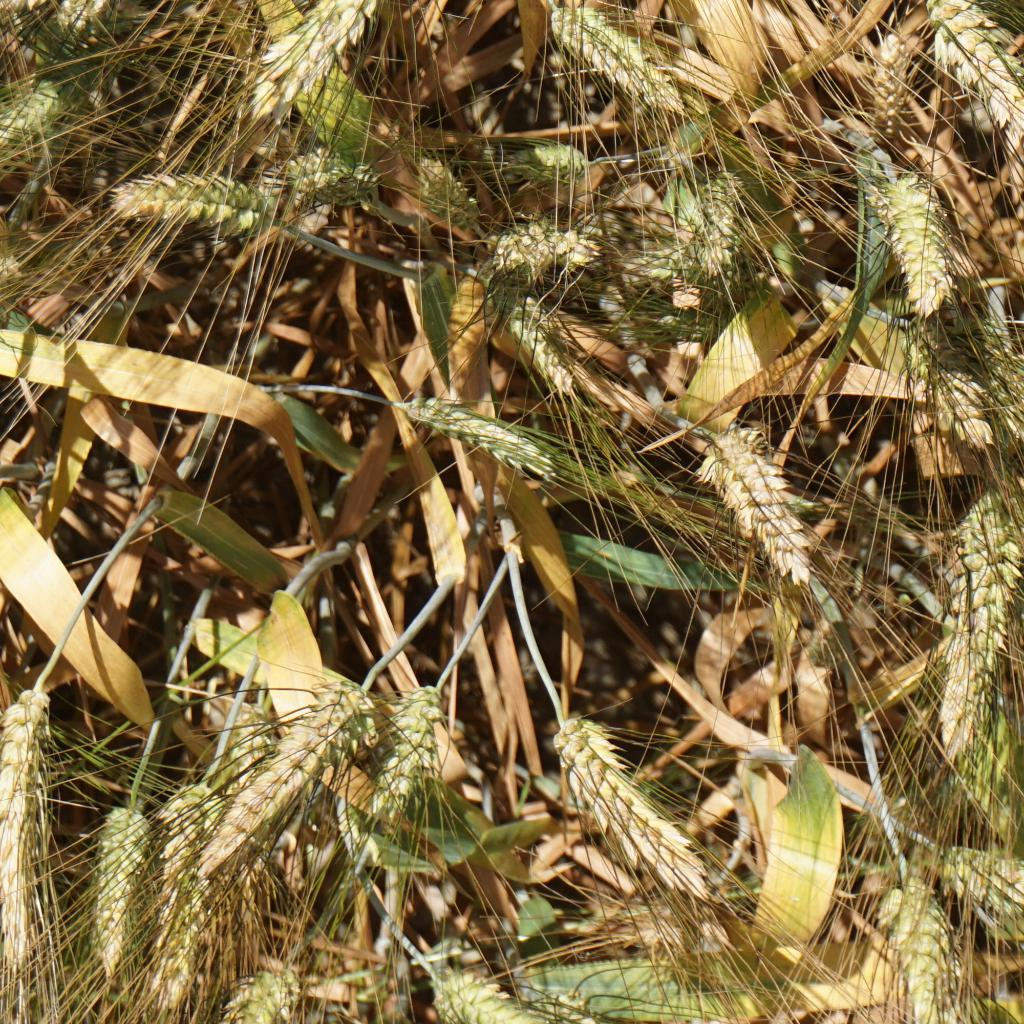0-0: (552, 717, 702, 878), (211, 684, 353, 849), (694, 420, 824, 594), (864, 859, 972, 1024), (542, 3, 687, 124), (929, 607, 1024, 781), (923, 0, 1024, 163), (396, 398, 573, 487), (862, 167, 955, 314), (933, 846, 1024, 993), (251, 0, 399, 86), (902, 318, 999, 448), (0, 683, 44, 952), (479, 207, 614, 293), (110, 165, 270, 237), (92, 801, 152, 969), (376, 678, 439, 832), (688, 169, 762, 293), (507, 293, 582, 403), (606, 900, 741, 961), (948, 489, 1024, 596), (291, 137, 387, 218), (967, 316, 1024, 450), (404, 146, 487, 238), (0, 72, 81, 162), (856, 31, 914, 152), (154, 773, 205, 899), (427, 969, 539, 1024), (242, 710, 283, 860), (490, 136, 590, 194), (148, 890, 200, 996), (613, 243, 713, 290), (220, 964, 289, 1024), (652, 298, 719, 345), (0, 243, 37, 322), (49, 0, 104, 52)
